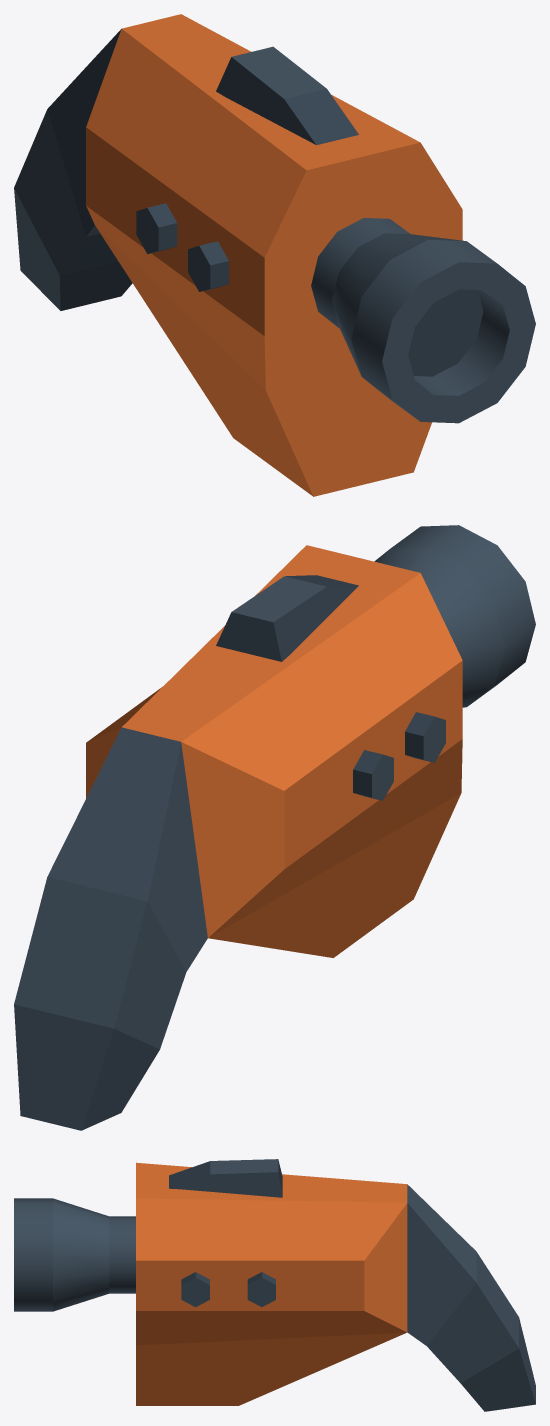
Rendered from astroGun.fbx.
3 views of the same model, one above another, from view 1: azimuth 30°, elevation 25°; view 2: azimuth 150°, elevation 25°; view 3: azimuth 270°, elevation 25° (orthographic). The views are drawn at different scales.
Parts seen in each view (by area): view 1: astroGun; view 2: astroGun; view 3: astroGun.
Part boxes in pixels (x1,y1,x2,y2): astroGun: (14,14,535,496); astroGun: (14,525,535,1130); astroGun: (14,1159,535,1411).
Bounding box in the file's own units: 31.78 × 47.86 × 95.63.
